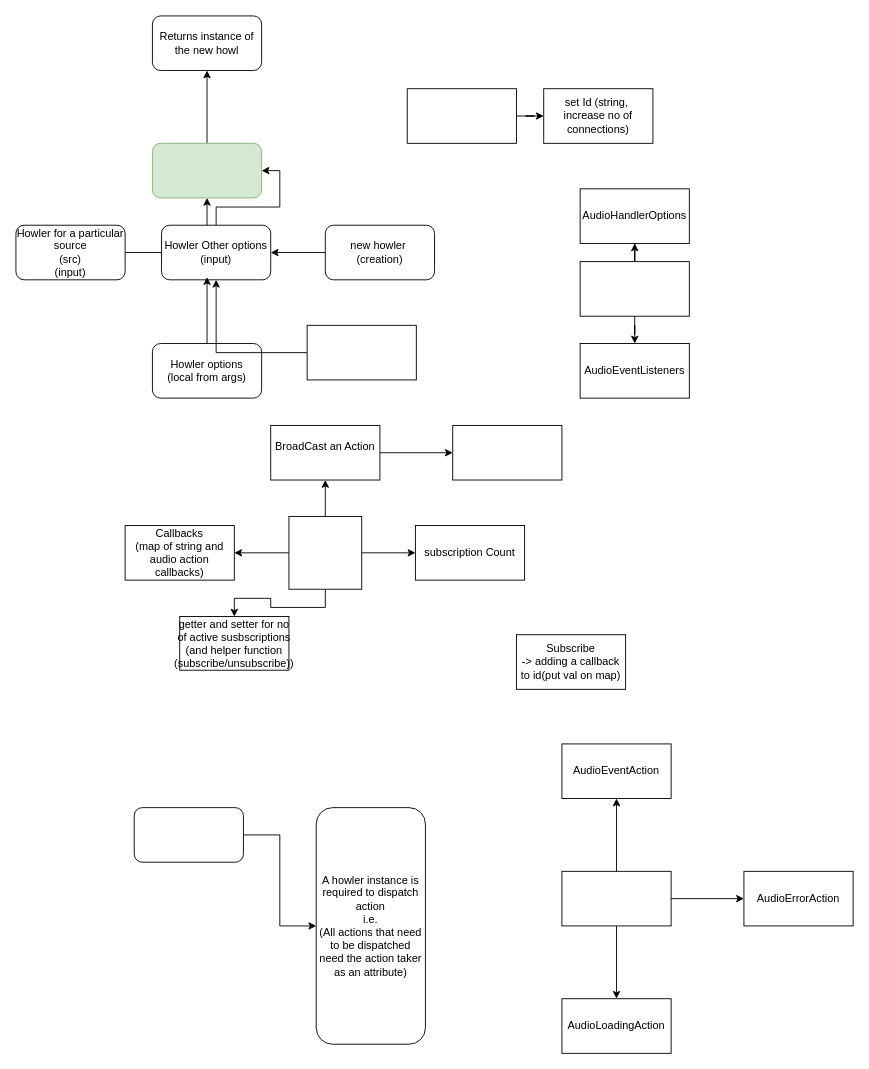
This 869x1069 diagram has some shape labels left out. Each missing label, with the centre of its shape:
"Action Types" goes at point 188,834.
"AudioLoadOptions" goes at point 634,288.
"AudioStates" goes at point 616,898.
"Broadcasting an action includes broadcasting for all callbacks" goes at point 507,452.
"Create Howler howl. callbacks, options" goes at point 207,170.
"How lInstance Manager" goes at point 325,552.
"subscribe(subscription)" goes at point 461,115.
"this.howl property set to new ly created howler" goes at point 361,352.
